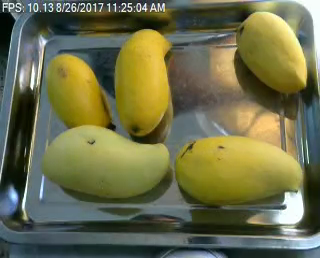Mango: (39, 126, 171, 197), (173, 135, 301, 207), (112, 28, 170, 134), (237, 10, 306, 91), (47, 52, 111, 133)
